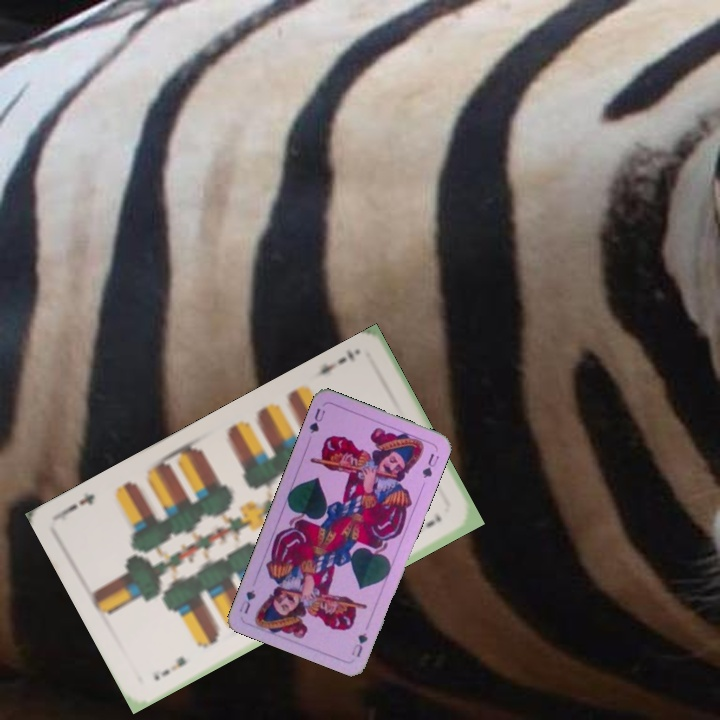E7: (309, 346, 358, 381), (148, 652, 189, 684)
GU: (305, 404, 328, 436), (347, 629, 370, 660)
